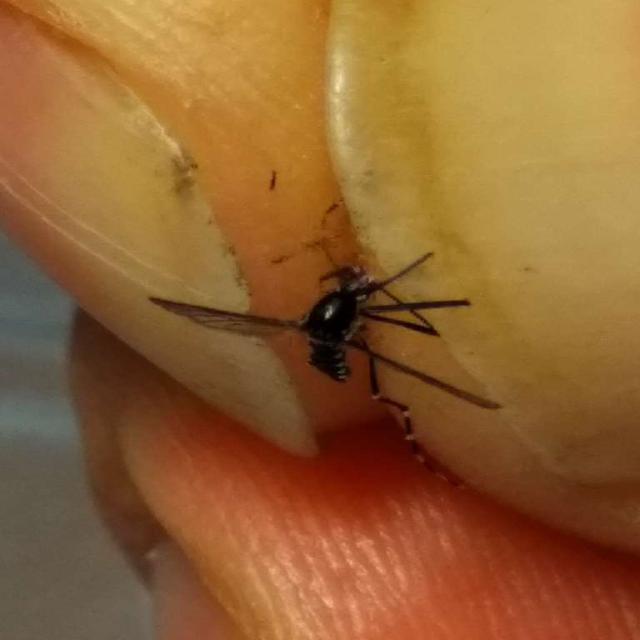albopictus: (144, 187, 508, 469)
